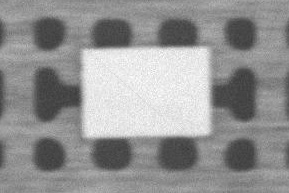DIE_CRACK: (133, 35, 235, 75)
